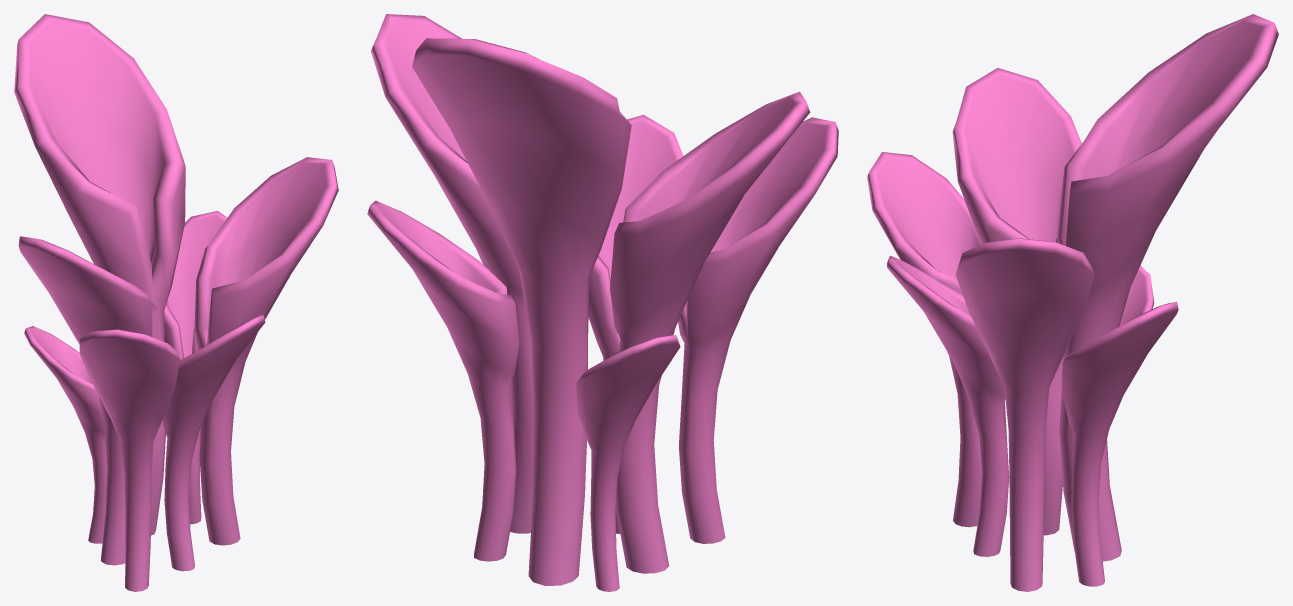
File: pequeno_coral06.fbx
The picture shows the model from 3 angles, left to right: view 1: azimuth 30°, elevation 25°; view 2: azimuth 150°, elevation 25°; view 3: azimuth 270°, elevation 25°; orthographic projection. The views are drawn at different scales.
Visible parts, largest first — view 1: Plant.020; view 2: Plant.020; view 3: Plant.020.
Part boxes in pixels (bbox=[...]): Plant.020: bbox=[14, 14, 338, 591]; Plant.020: bbox=[367, 14, 838, 591]; Plant.020: bbox=[867, 14, 1278, 591].
Size of the model in its own units: 656 by 933 by 666.
1 material, 1 textured.
